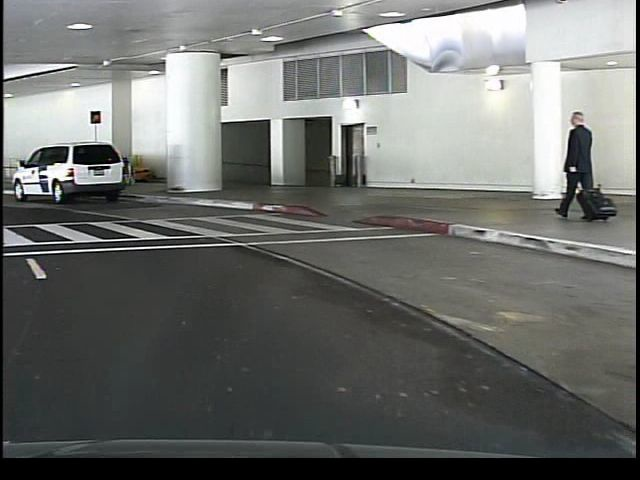person: (556, 102, 594, 225)
